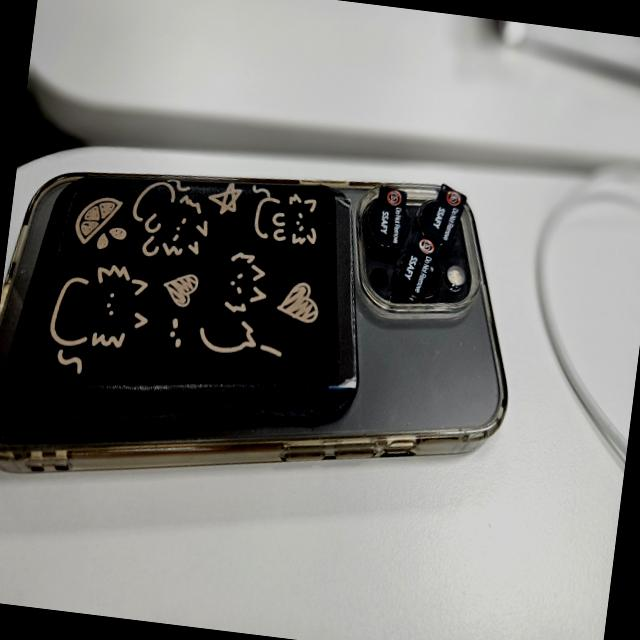phone: (0, 130, 534, 530)
sticker: (394, 230, 441, 300), (424, 182, 468, 246), (370, 183, 410, 252)
